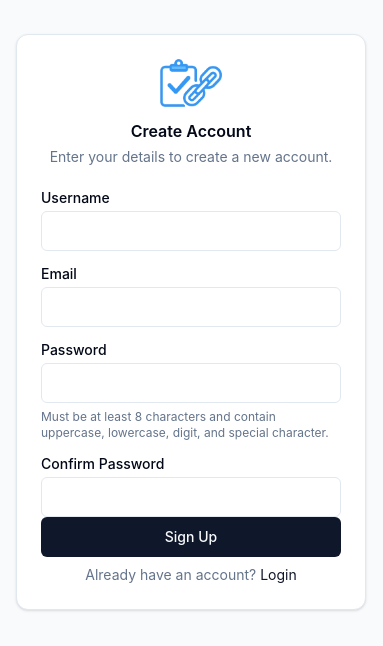
Test case: auth page announcements › announces mismatched passwords on Signup
The image size is (383, 646).
Type "lena" into the field labelled "Username" at (191, 231), box 41,211 -> 341,251
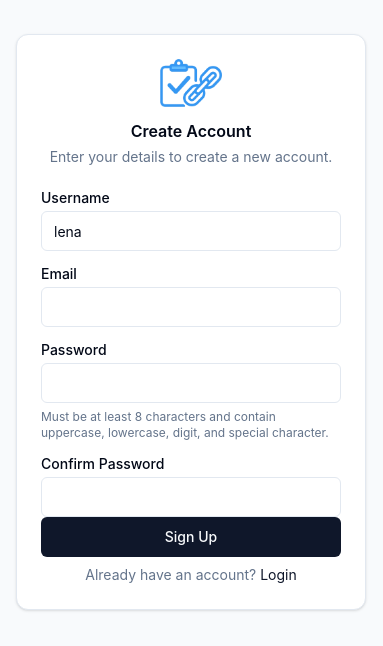
Type "Battery-Staple-2" into the password field labelled "Password" at (191, 383), box 41,363 -> 341,403
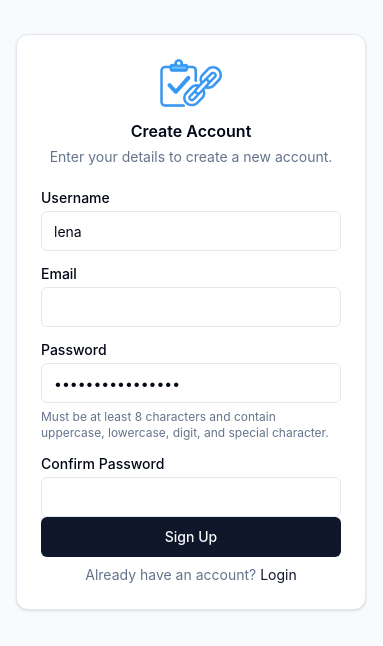
Type "Battery-Staple-3" into the password field labelled "Confirm Password" at (191, 497), box 41,477 -> 341,517
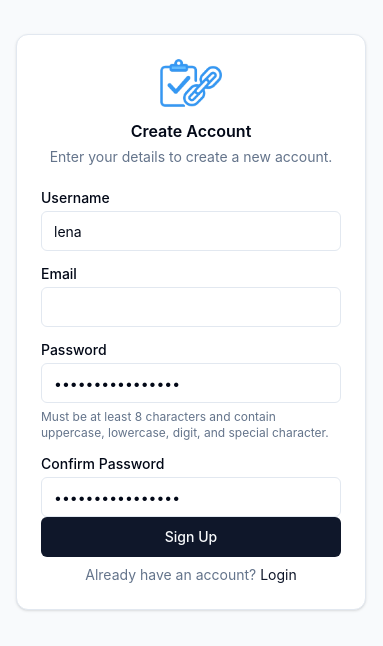
Submit the form labelled "Password", box 17,191 -> 365,585
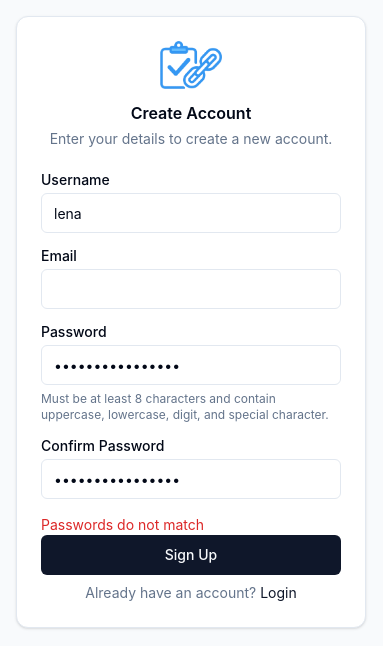
Check: the message reads "Passwords do not match", box 41,516 -> 204,533
